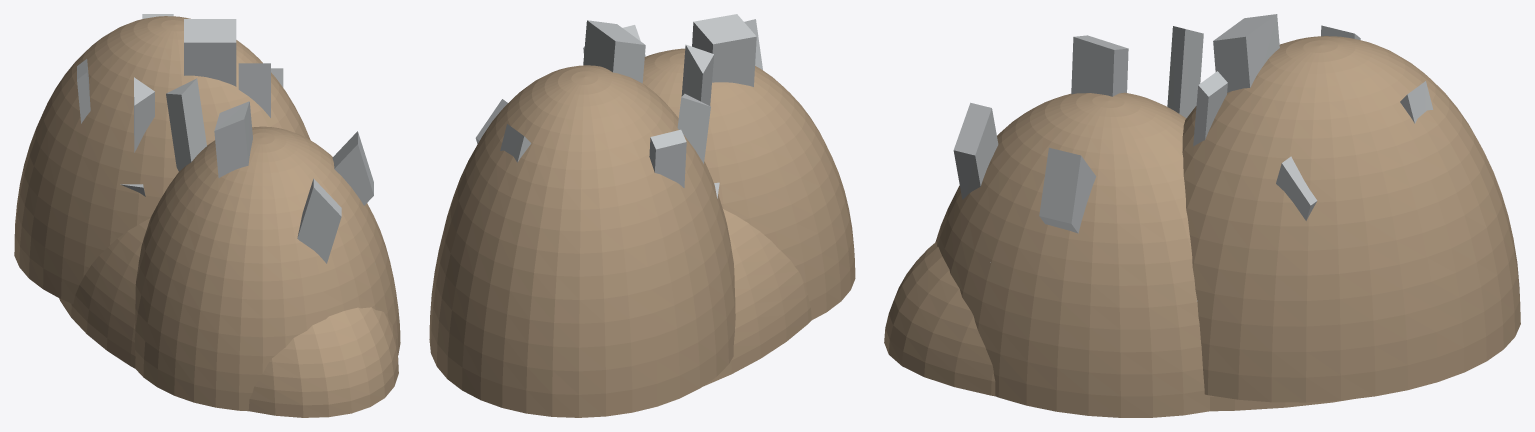
Rendered from heap2.glb.
3 views of the same model, side by side, from view 1: azimuth 30°, elevation 25°; view 2: azimuth 150°, elevation 25°; view 3: azimuth 270°, elevation 25° (orthographic). The views are drawn at different scales.
Visible parts, largest first — view 1: Mesh_Mesh_head_geo.001_lambert2SG.001; view 2: Mesh_Mesh_head_geo.001_lambert2SG.001; view 3: Mesh_Mesh_head_geo.001_lambert2SG.001.
Boxes of the visible parts, <box> form: Mesh_Mesh_head_geo.001_lambert2SG.001: <box>14,14,400,417</box>; Mesh_Mesh_head_geo.001_lambert2SG.001: <box>429,14,855,417</box>; Mesh_Mesh_head_geo.001_lambert2SG.001: <box>884,14,1520,417</box>.
Size of the model in its own units: 1.8 by 1.87 by 3.3.
